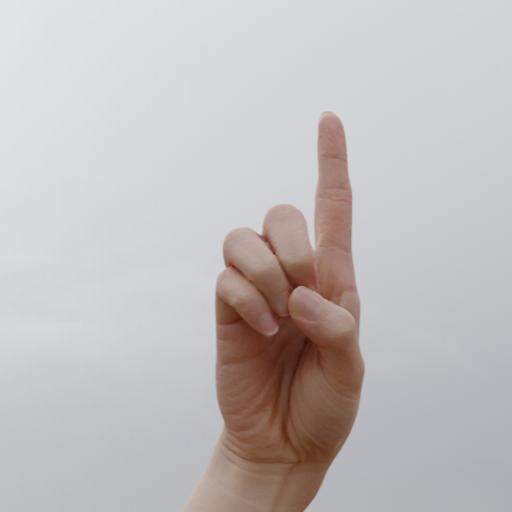D: (186, 114, 360, 478)
